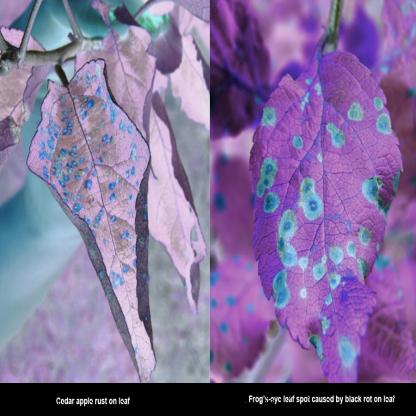Apple rust leaf: (245, 46, 406, 378), (29, 50, 164, 383)
